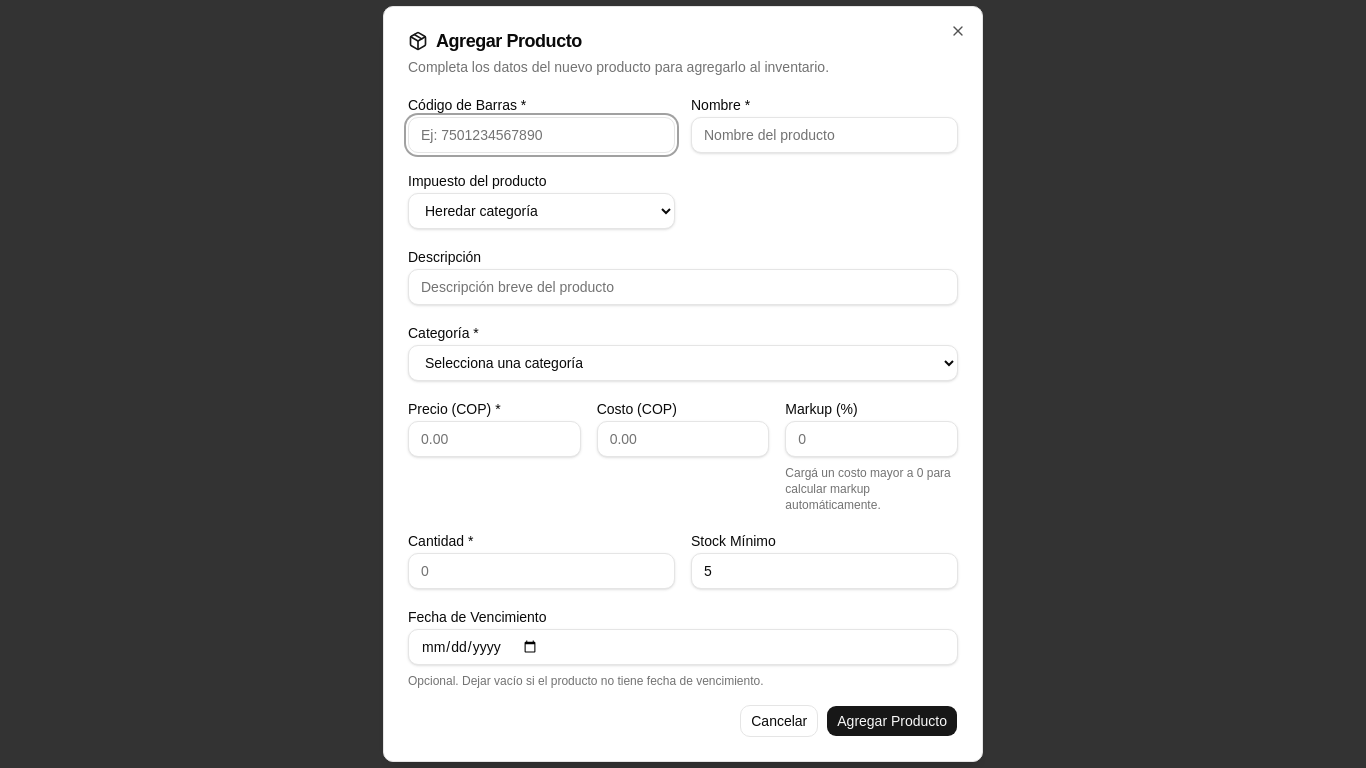
Test: AddProductDialog — markup UI › recalculates markup when user edits price manually
In the number field labelled "Costo (COP)": (683, 439) [597,421,769,457], type "100"
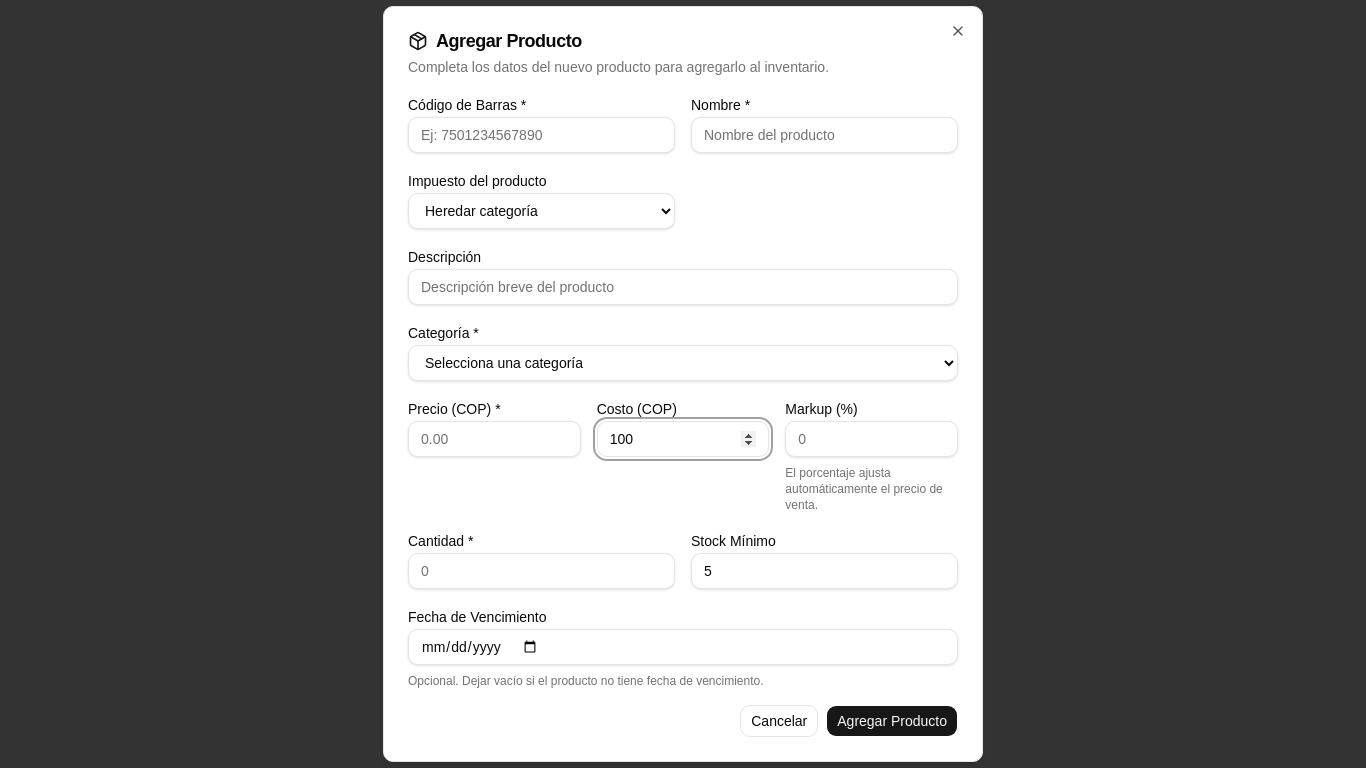
In the number field labelled "Precio (COP) *": (494, 439) [408,421,581,457], type "140"
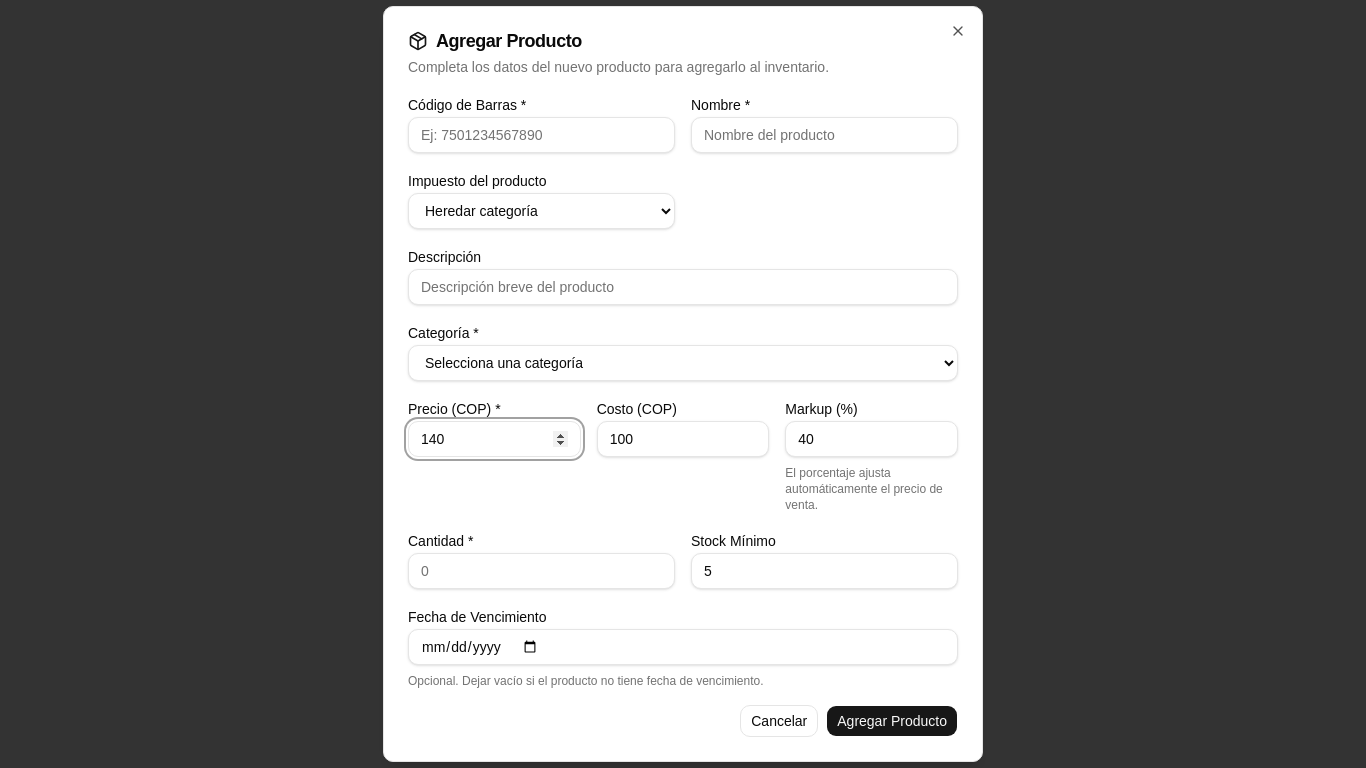
expect the number field labelled "Markup (%)" holds "40": met, box [785,421,958,457]
